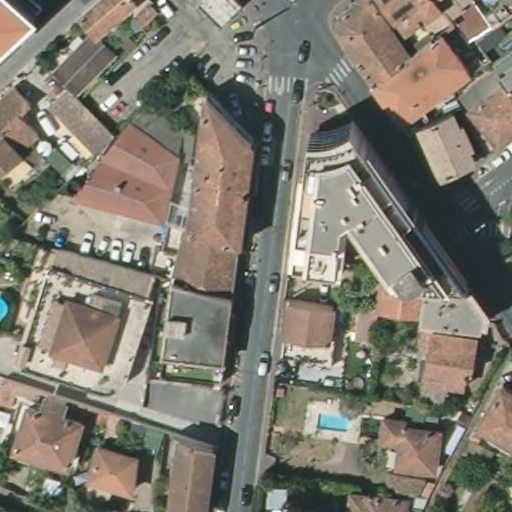pool: (312, 408, 355, 434), (1, 297, 10, 322)
